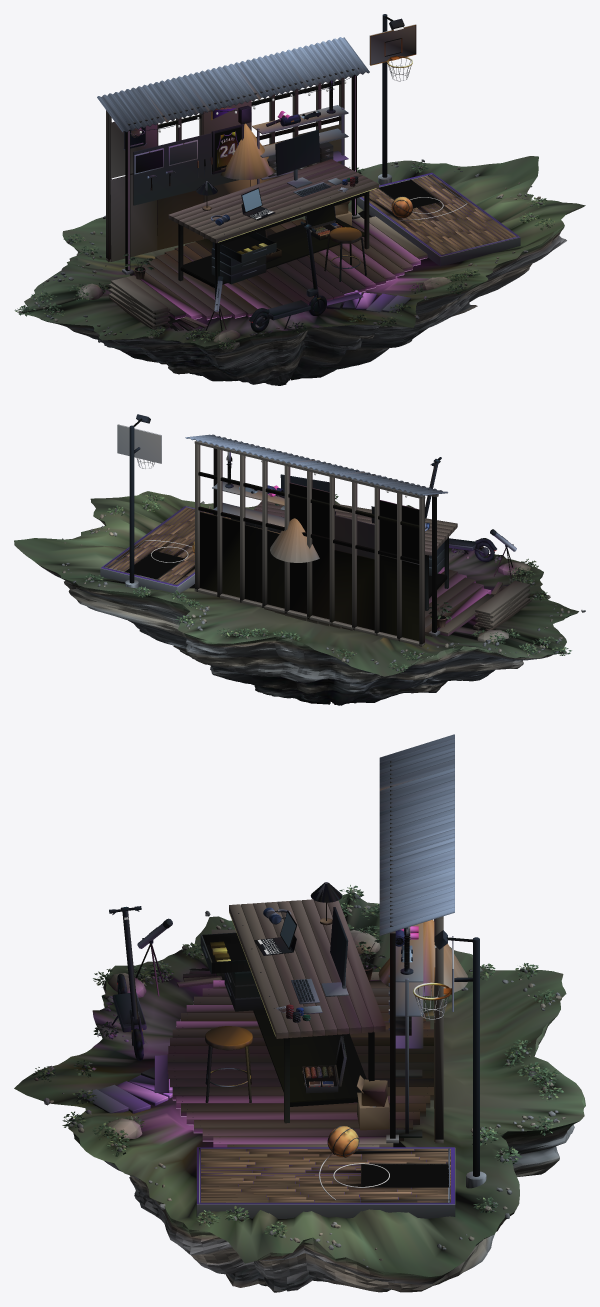
File: flight-projects-80cea760.glb
3 renders of one model, top to bottom at view 1: azimuth 30°, elevation 25°; view 2: azimuth 150°, elevation 25°; view 3: azimuth 270°, elevation 25°, orthographic. The views are drawn at different scales.
Parts seen in each view (by area): view 1: Projects island · flight.001; view 2: Projects island · flight.001; view 3: Projects island · flight.001.
Boxes of the visible parts, x1,y1,x2,y2 form: Projects island · flight.001: (14,14,585,385); Projects island · flight.001: (14,414,585,705); Projects island · flight.001: (14,734,585,1292).
Size of the model in its own units: 14.35 by 7.34 by 8.83.
